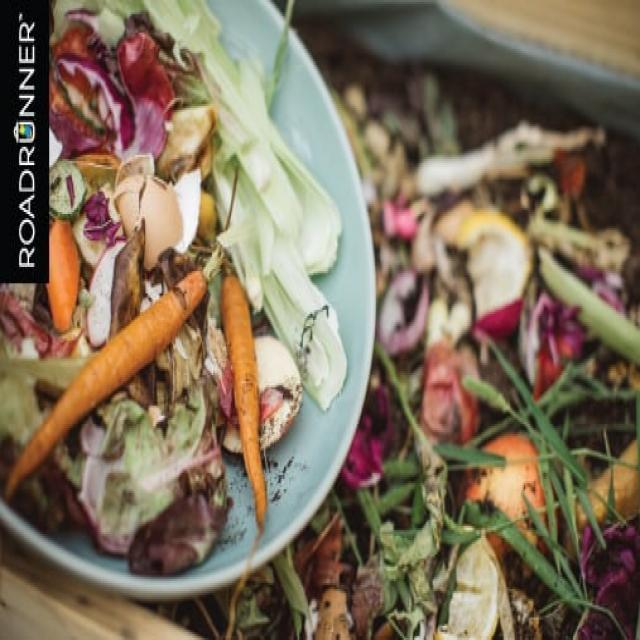Food -Biodegradable-: (143, 2, 640, 640), (0, 0, 359, 579)
